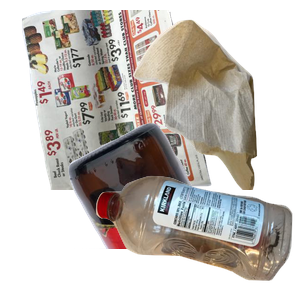glass: (66, 120, 300, 300)
paper: (19, 10, 223, 190)
plastic: (93, 173, 300, 300)
trash: (131, 17, 300, 197)
